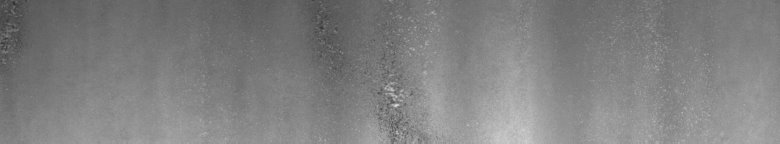hc: (318, 17, 404, 136)
